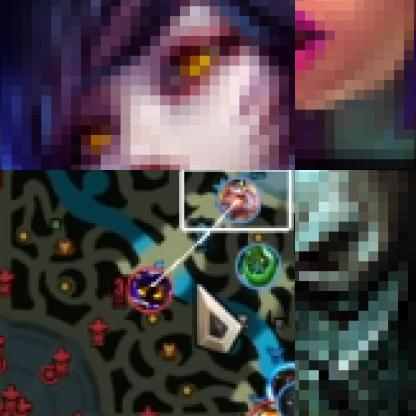Ahri: (0, 0, 294, 169)
Bard: (249, 401, 294, 415)
Neeko: (295, 0, 415, 169)
Qiyana: (218, 178, 262, 221)
Senna: (277, 383, 294, 415)
Urgot: (295, 170, 415, 415)
Veigar: (128, 268, 173, 311)
Zac: (235, 243, 282, 289)
